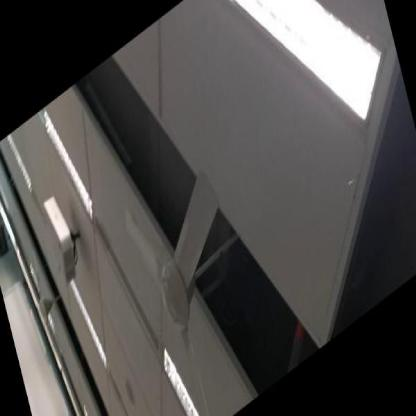light_on: (205, 0, 401, 212), (37, 88, 103, 239), (140, 312, 217, 414), (59, 258, 115, 390), (2, 125, 38, 206)
